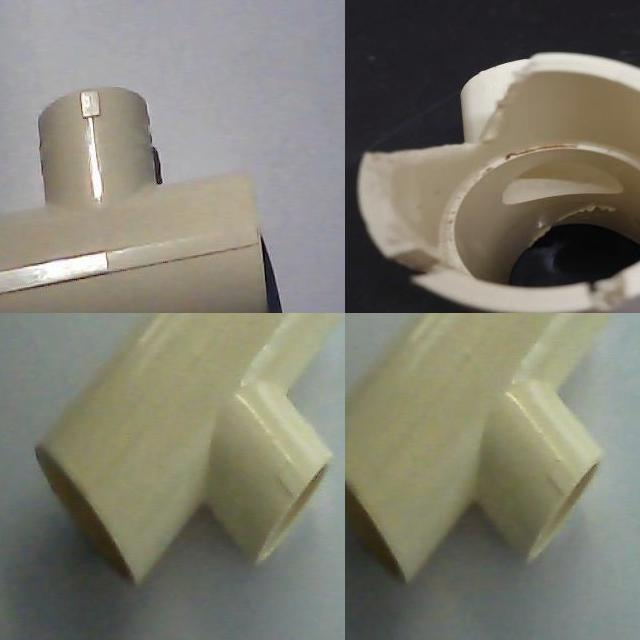Defective: (345, 61, 547, 198), (378, 233, 457, 313), (581, 268, 640, 313)
T Joint: (34, 313, 343, 590), (345, 313, 616, 587), (0, 89, 270, 313)
